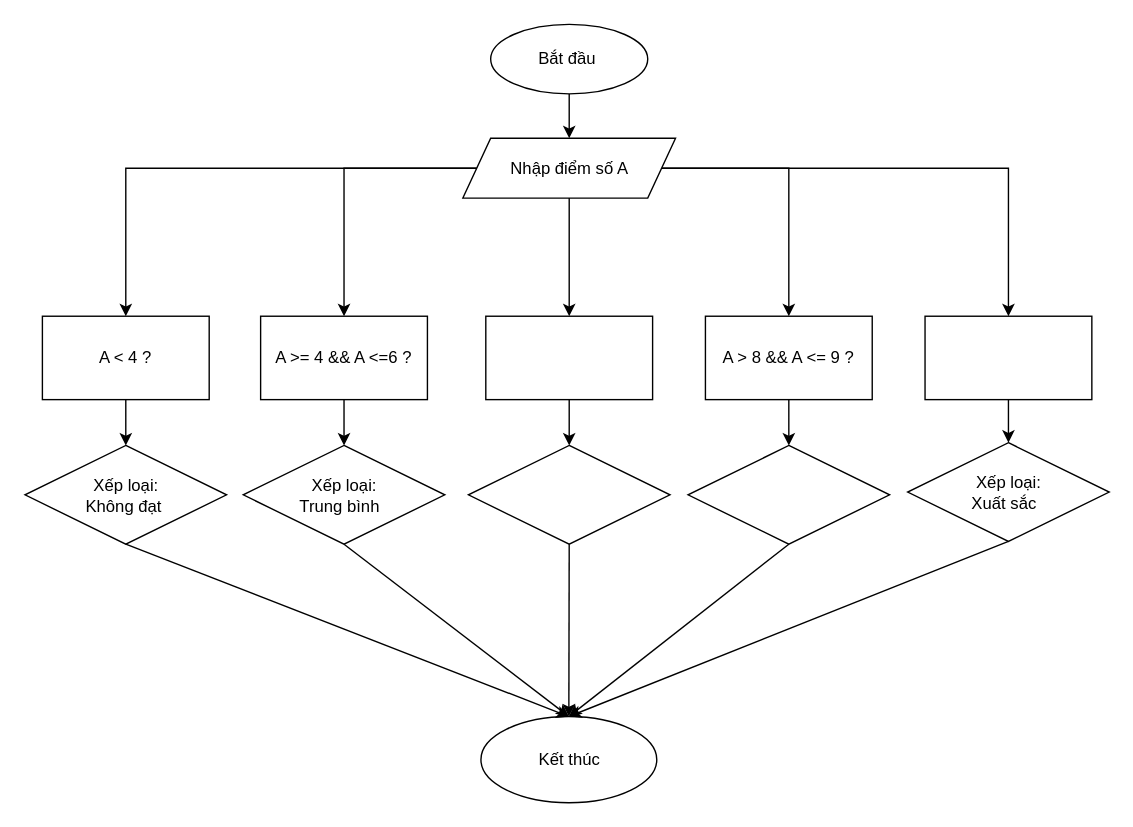
Some shapes in this 1133 by 827 pixel diagram are drawn without their labels. The centre of each missing label's shape, as x and y in pixels:
"A > 6 && A <= 8 ?" goes at point 568,357.
"A > 9 && A <= 10 ?" goes at point 1008,357.
"Xếp loại: Giỏi" goes at point 788,494.
"Xếp loại: Khá" goes at point 568,494.
